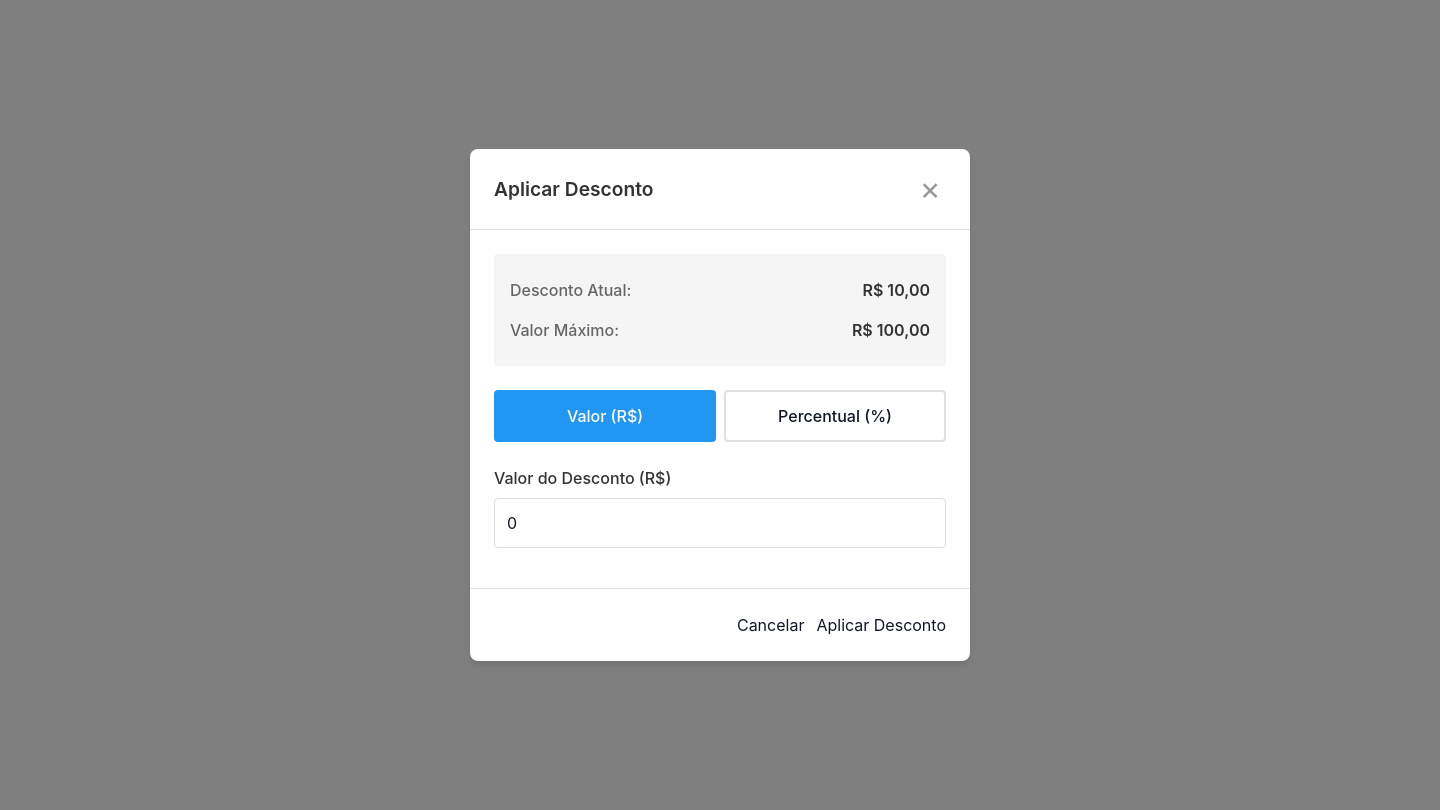
it: POSDiscountModal › Discount Type Selection › should update input label when switching types
The width and height of the screenshot is (1440, 810).
Expected: the label "Valor do Desconto (R$)" is shown, [494,468,671,488]
Step 1. Click the button with class "type-button" showing "Percentual (%)" → (835, 416), box [724,390,946,442]
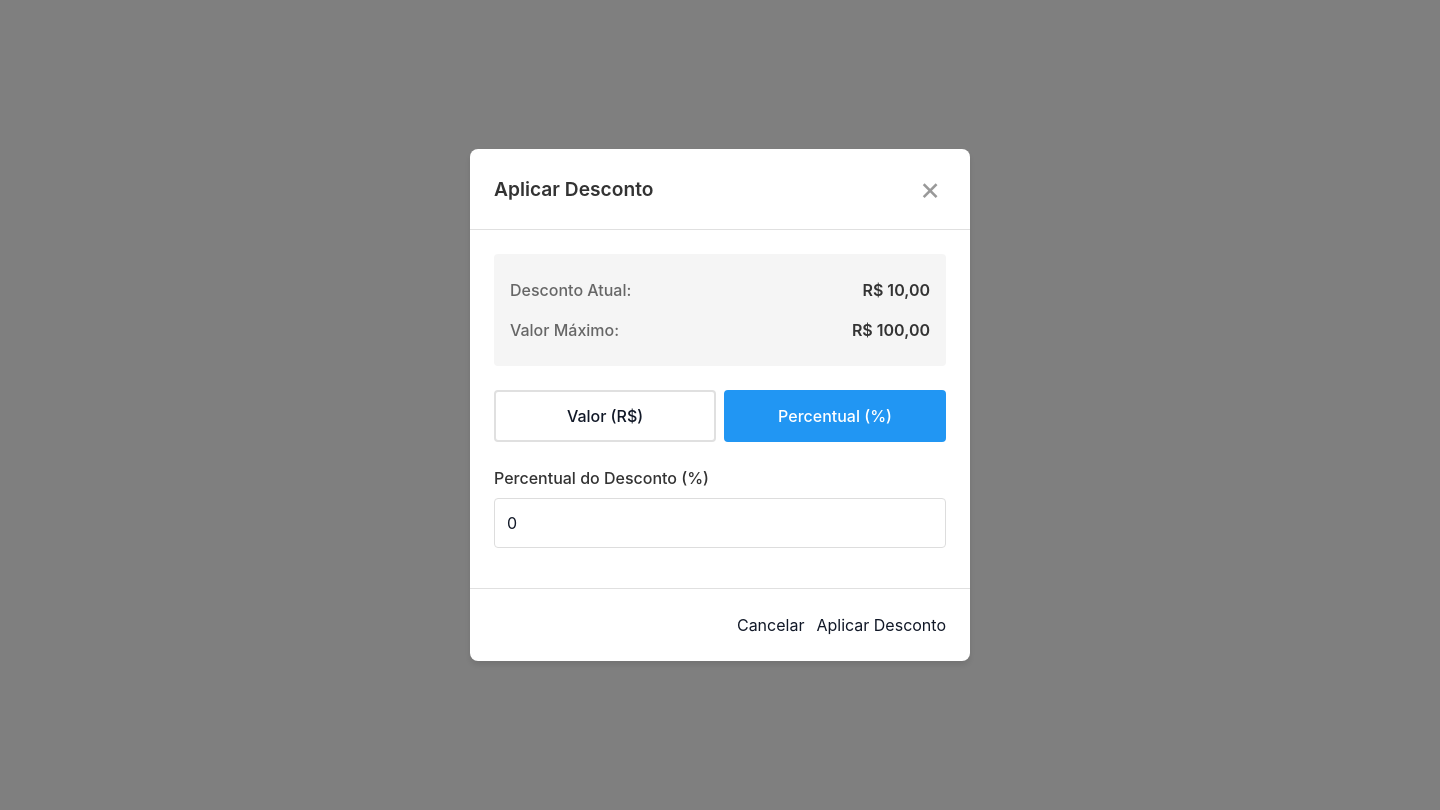
Now the label "Percentual do Desconto (%)" is shown, box [494,468,709,488]
